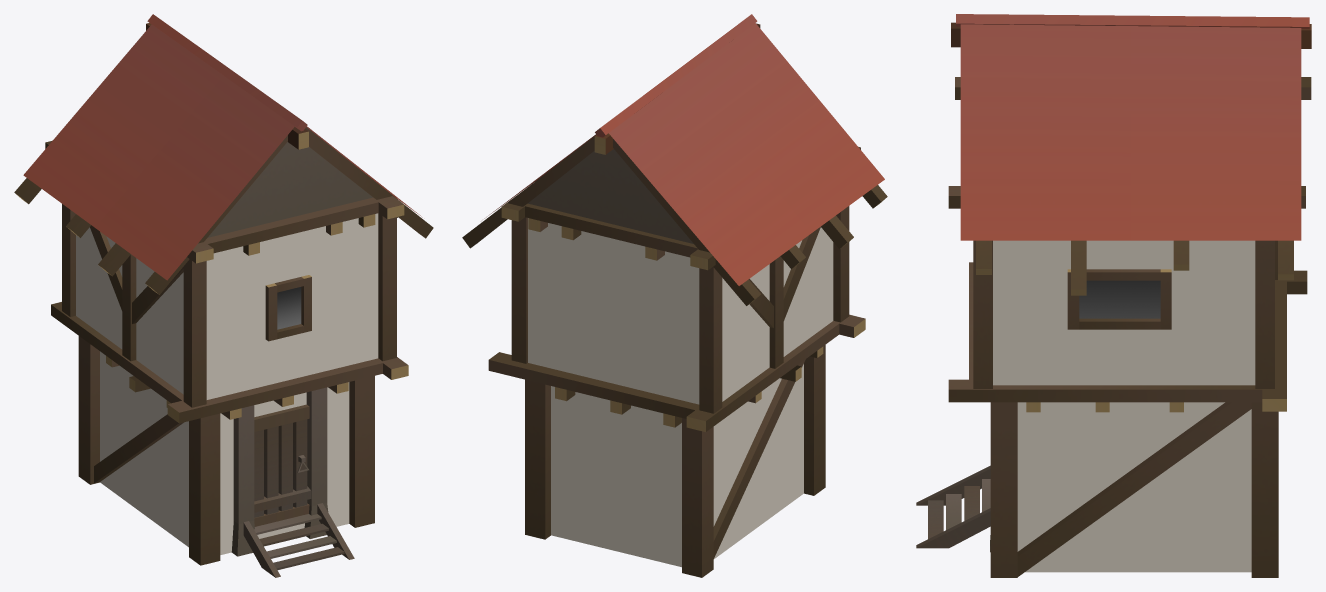
The model's file is House_15_LOD1.fbx.
3 views of the same model, side by side, from view 1: azimuth 30°, elevation 25°; view 2: azimuth 150°, elevation 25°; view 3: azimuth 270°, elevation 25° (orthographic). The views are drawn at different scales.
Visible parts, largest first — view 1: polySurface9624; view 2: polySurface9624; view 3: polySurface9624.
Boxes of the visible parts, <box> form: polySurface9624: <box>14,14,433,577</box>; polySurface9624: <box>462,14,887,577</box>; polySurface9624: <box>916,14,1311,577</box>.
Bounding box in the file's own units: 585 × 806 × 562.
